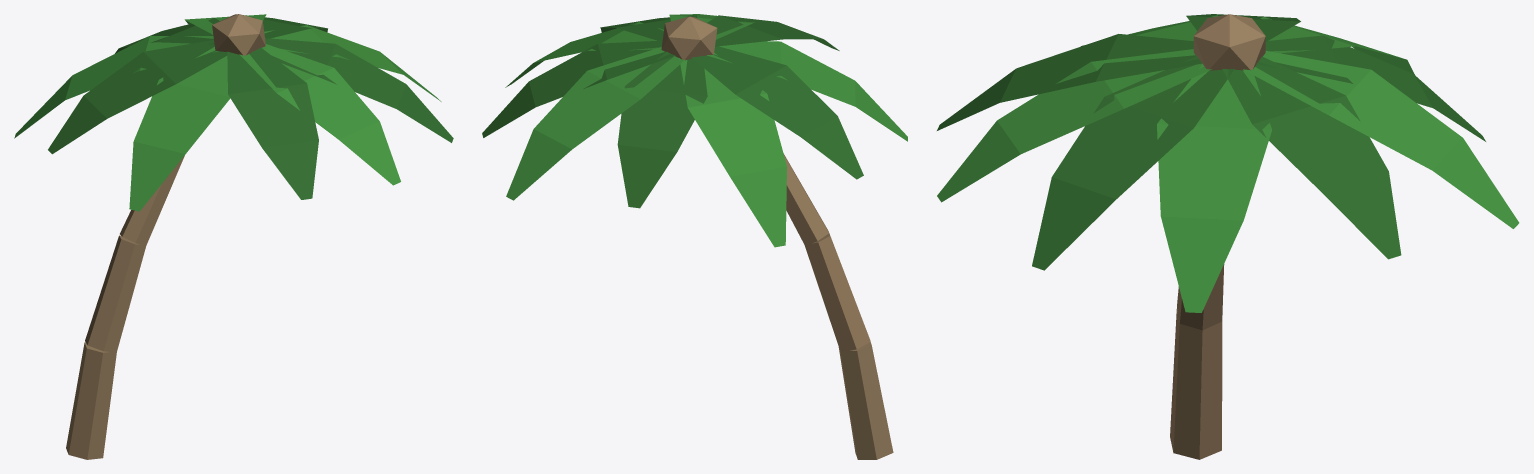
File: palm-v1-summer.glb
3 renders of one model, left to right at view 1: azimuth 30°, elevation 25°; view 2: azimuth 150°, elevation 25°; view 3: azimuth 270°, elevation 25°, orthographic. The views are drawn at different scales.
Visible parts, largest first — view 1: palm_v1; view 2: palm_v1; view 3: palm_v1.
Boxes of the visible parts, left/top/right/bottom form: palm_v1: left=14, top=14, right=453, bottom=459; palm_v1: left=482, top=14, right=907, bottom=459; palm_v1: left=937, top=14, right=1519, bottom=459.
Size of what is drawn, in the model's own units: 5.93 by 5.98 by 5.77.
